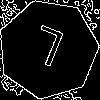L: (23, 24, 67, 77)
